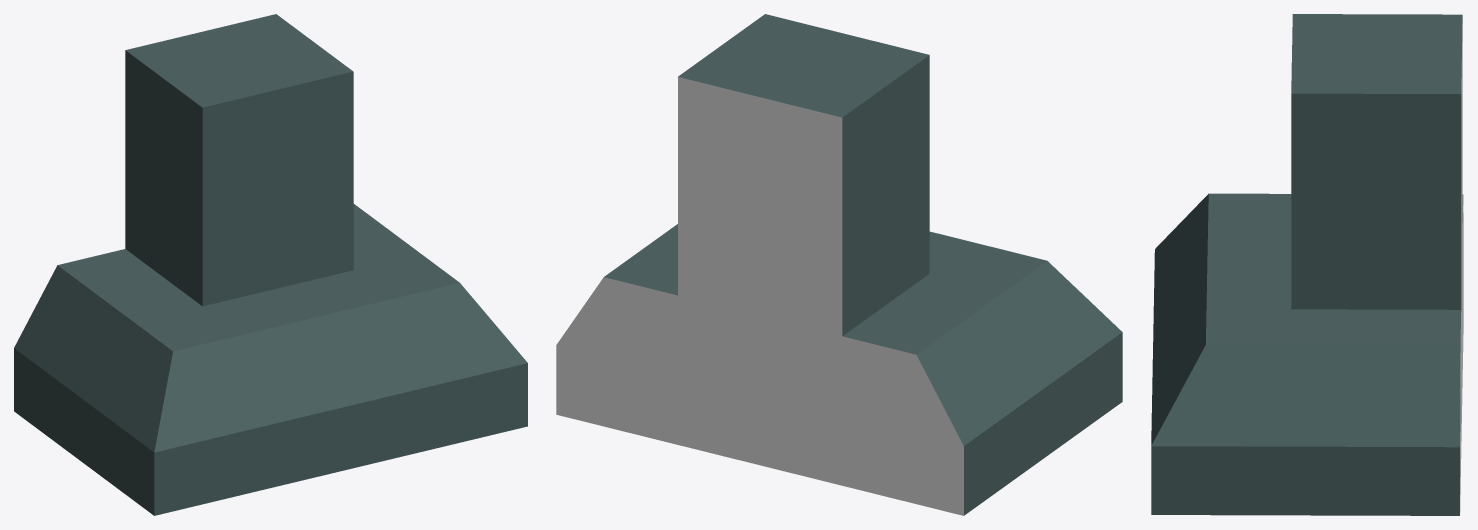
File: KitchenHoodLarge.glb
3 renders of one model, left to right at view 1: azimuth 30°, elevation 25°; view 2: azimuth 150°, elevation 25°; view 3: azimuth 270°, elevation 25°, orthographic. The views are drawn at different scales.
Parts seen in each view (by area): view 1: hoodLarge_1, hoodLarge; view 2: hoodLarge, hoodLarge_1; view 3: hoodLarge, hoodLarge_1.
Part boxes in pixels (x1,y1,x2,y2): hoodLarge_1: (14, 53, 527, 512); hoodLarge: (14, 14, 527, 515); hoodLarge: (556, 14, 1122, 515); hoodLarge_1: (556, 66, 1122, 441); hoodLarge: (1151, 14, 1463, 515); hoodLarge_1: (1151, 29, 1463, 514).
Bounding box in the file's own units: 7.14 × 6.11 × 4.76.
